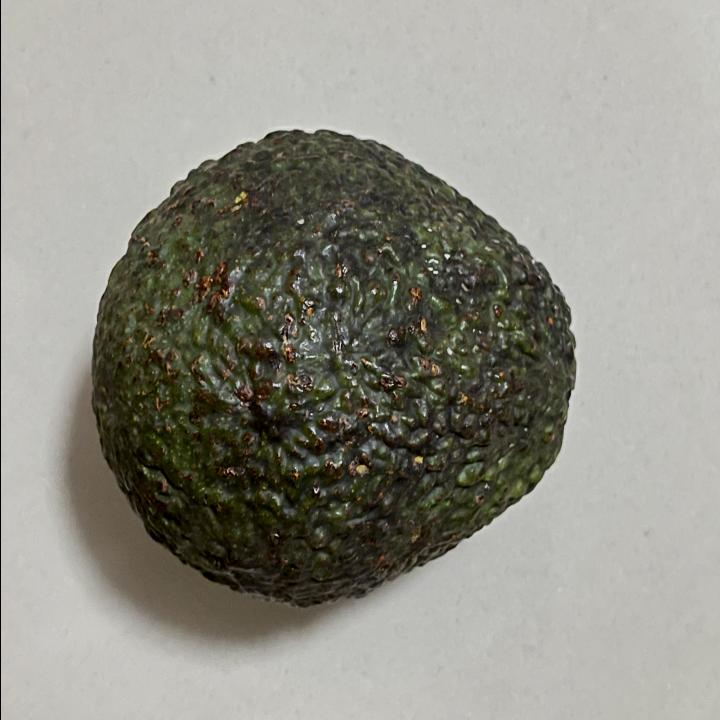Level1: (74, 112, 593, 622)
